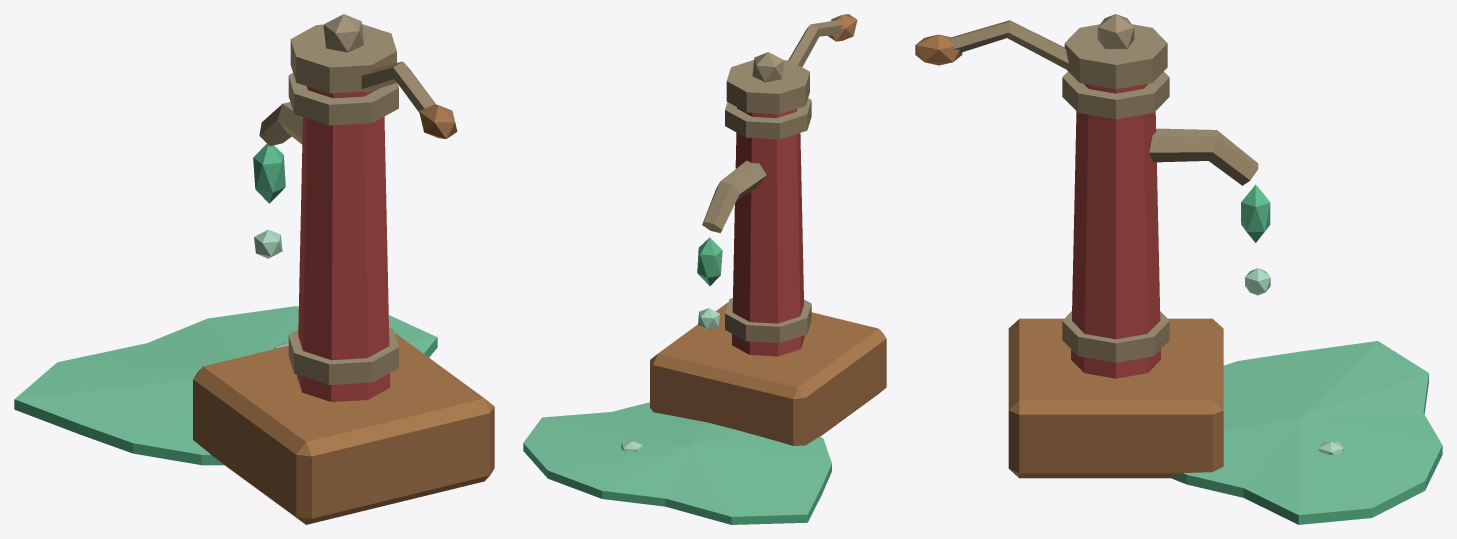
Rendered from ranch_water_pump.fbx.
3 views of the same model, side by side, from view 1: azimuth 30°, elevation 25°; view 2: azimuth 150°, elevation 25°; view 3: azimuth 270°, elevation 25° (orthographic). The views are drawn at different scales.
Visible parts, largest first — view 1: ranch_water_pump; view 2: ranch_water_pump; view 3: ranch_water_pump.
Boxes of the visible parts, box(x1,y1,x2,y2) form: ranch_water_pump: box(14, 14, 494, 524); ranch_water_pump: box(523, 14, 886, 524); ranch_water_pump: box(915, 14, 1442, 524).
Size of the model in its own units: 3.84 by 4.35 by 4.91.
